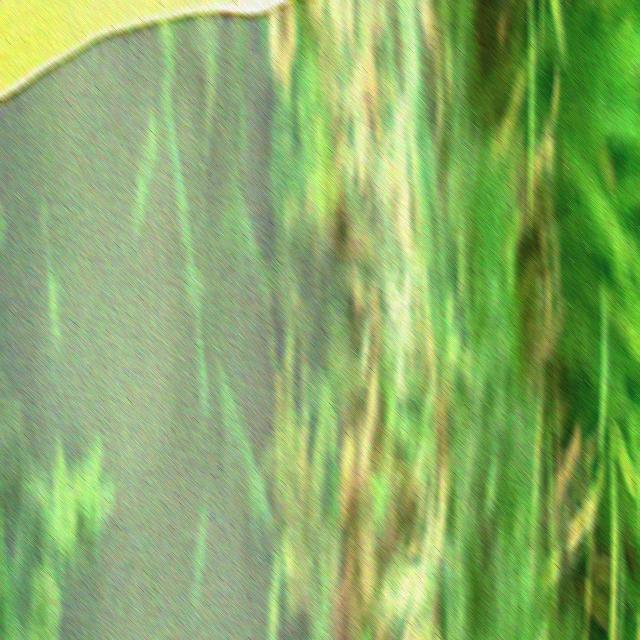NBS: (208, 0, 282, 11)
